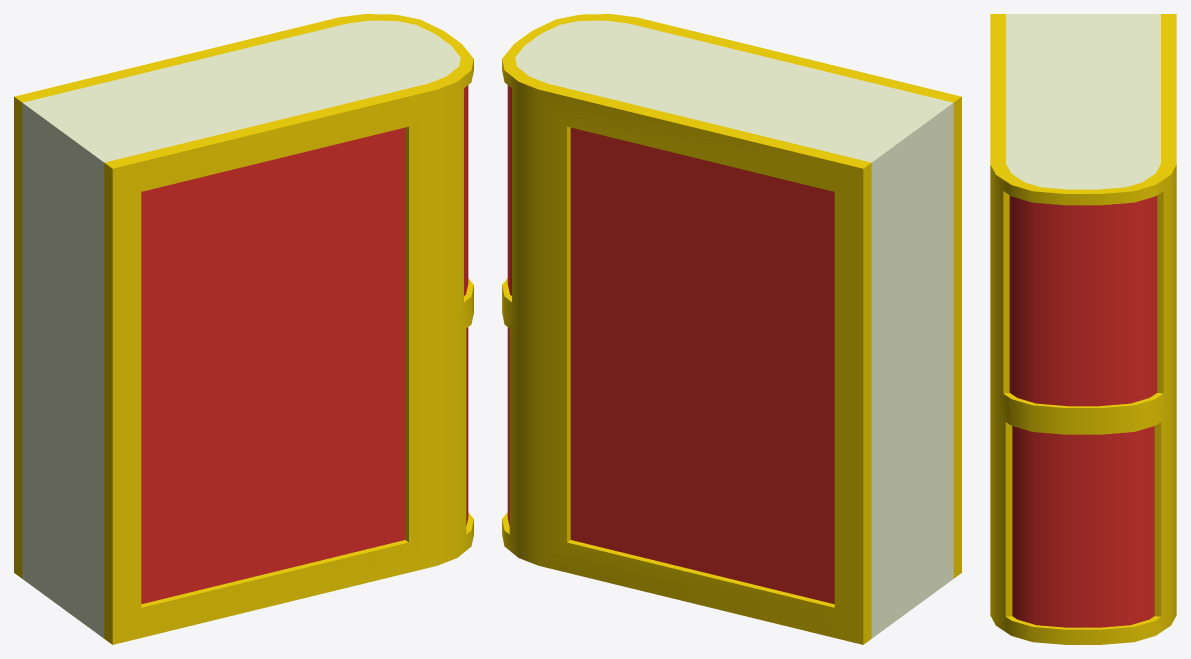
Rendered from Book_1.fbx.
3 renders of one model, left to right at view 1: azimuth 30°, elevation 25°; view 2: azimuth 150°, elevation 25°; view 3: azimuth 270°, elevation 25°, orthographic. The views are drawn at different scales.
Parts seen in each view (by area): view 1: Book_1; view 2: Book_1; view 3: Book_1.
Boxes of the visible parts, x1,y1,x2,y2 form: Book_1: (14,14,473,644); Book_1: (502,14,961,644); Book_1: (990,14,1176,644).
Size of the model in its own units: 0.3426 by 0.4 by 0.15.
